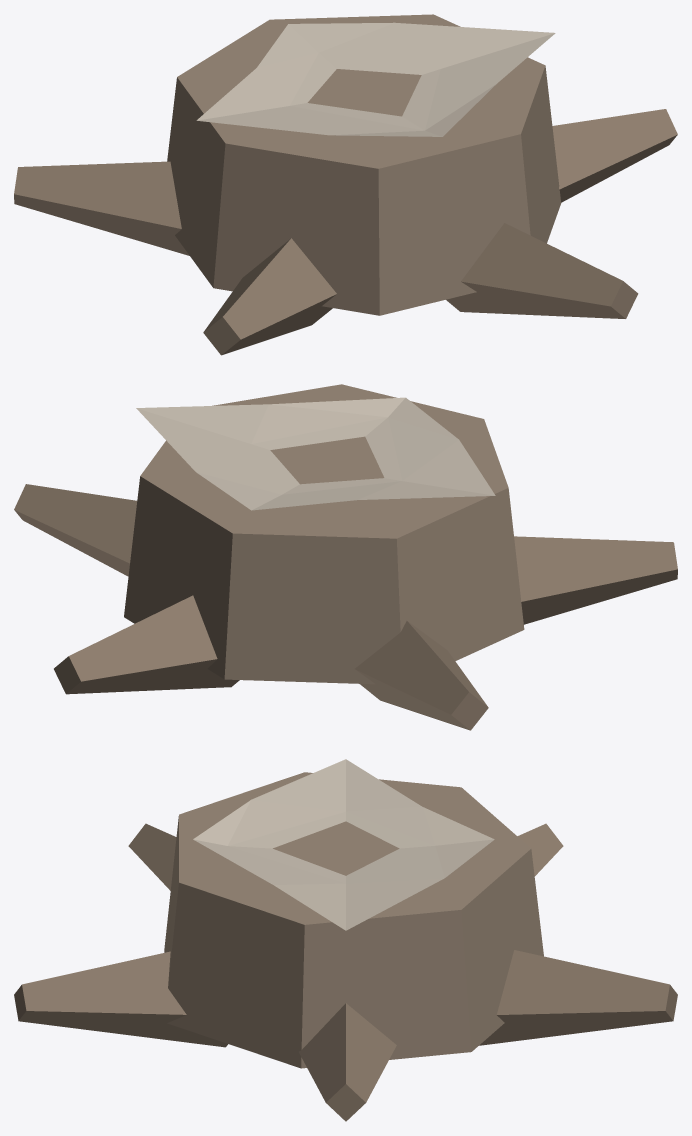
Rendered from stump_v39.glb.
3 renders of one model, top to bottom at view 1: azimuth 30°, elevation 25°; view 2: azimuth 150°, elevation 25°; view 3: azimuth 270°, elevation 25°, orthographic. The views are drawn at different scales.
Parts seen in each view (by area): view 1: lod0; view 2: lod0; view 3: lod0.
Boxes of the visible parts, x1,y1,x2,y2 form: lod0: (14, 14, 677, 355); lod0: (14, 384, 677, 730); lod0: (14, 759, 677, 1121).
Size of what is drawn, in the model's own units: 1.26 by 0.4458 by 1.32.
